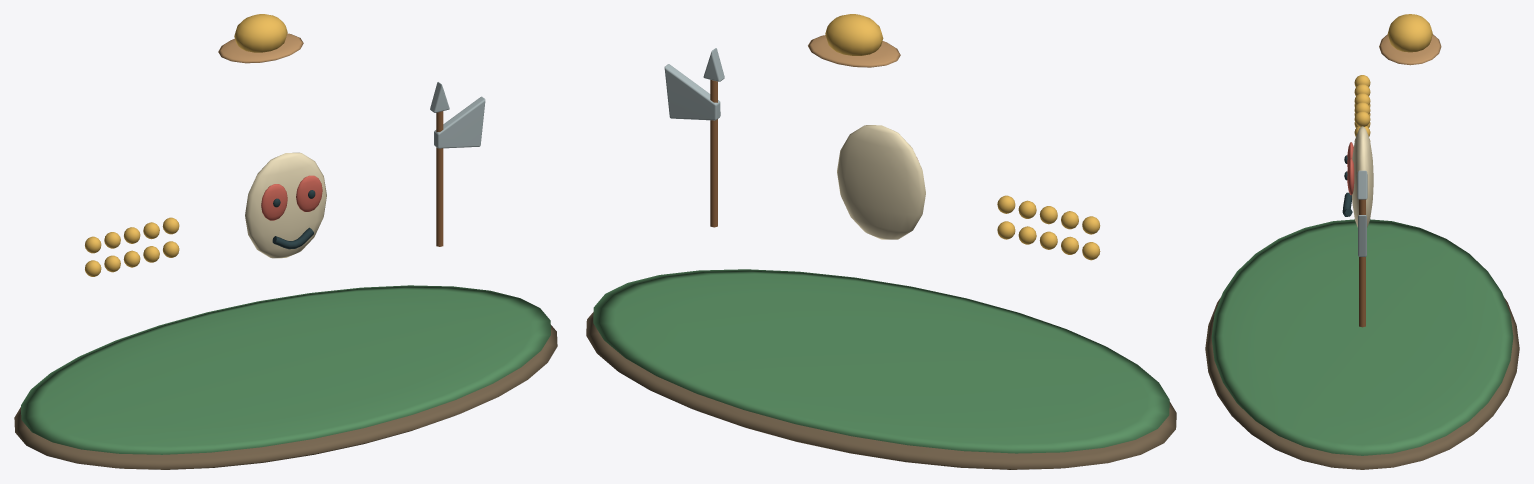
Rendered from complete-third-ten-unusual-halberd.glb.
The picture shows the model from 3 angles, left to right: view 1: azimuth 30°, elevation 25°; view 2: azimuth 150°, elevation 25°; view 3: azimuth 270°, elevation 25°; orthographic projection. The views are drawn at different scales.
Parts seen in each view (by area): view 1: complete-third-ten-unusual-halberd_surface_01, complete-third-ten-unusual-halberd_surface_00, complete-third-ten-unusual-halberd_surface_03, complete-third-ten-unusual-halberd_surface_02, complete-third-ten-unusual-halberd_surface_07, complete-third-ten-unusual-halberd_surface_04, complete-third-ten-unusual-halberd_surface_08, complete-third-ten-unusual-halberd_surface_06; view 2: complete-third-ten-unusual-halberd_surface_01, complete-third-ten-unusual-halberd_surface_00, complete-third-ten-unusual-halberd_surface_03, complete-third-ten-unusual-halberd_surface_02, complete-third-ten-unusual-halberd_surface_07, complete-third-ten-unusual-halberd_surface_08, complete-third-ten-unusual-halberd_surface_06; view 3: complete-third-ten-unusual-halberd_surface_01, complete-third-ten-unusual-halberd_surface_00, complete-third-ten-unusual-halberd_surface_02, complete-third-ten-unusual-halberd_surface_03, complete-third-ten-unusual-halberd_surface_08, complete-third-ten-unusual-halberd_surface_07, complete-third-ten-unusual-halberd_surface_06, complete-third-ten-unusual-halberd_surface_04.
Part boxes in pixels (bbox=[...]): complete-third-ten-unusual-halberd_surface_01: bbox=[21, 285, 550, 454]; complete-third-ten-unusual-halberd_surface_00: bbox=[14, 324, 557, 469]; complete-third-ten-unusual-halberd_surface_03: bbox=[245, 152, 326, 258]; complete-third-ten-unusual-halberd_surface_02: bbox=[85, 14, 287, 276]; complete-third-ten-unusual-halberd_surface_07: bbox=[430, 82, 485, 148]; complete-third-ten-unusual-halberd_surface_04: bbox=[261, 175, 322, 220]; complete-third-ten-unusual-halberd_surface_08: bbox=[218, 33, 303, 63]; complete-third-ten-unusual-halberd_surface_06: bbox=[436, 111, 443, 246]; complete-third-ten-unusual-halberd_surface_01: bbox=[593, 269, 1169, 453]; complete-third-ten-unusual-halberd_surface_00: bbox=[586, 312, 1176, 469]; complete-third-ten-unusual-halberd_surface_03: bbox=[837, 125, 925, 239]; complete-third-ten-unusual-halberd_surface_02: bbox=[825, 14, 1100, 260]; complete-third-ten-unusual-halberd_surface_07: bbox=[664, 48, 724, 120]; complete-third-ten-unusual-halberd_surface_08: bbox=[808, 35, 900, 67]; complete-third-ten-unusual-halberd_surface_06: bbox=[710, 80, 717, 227]; complete-third-ten-unusual-halberd_surface_01: bbox=[1211, 219, 1513, 455]; complete-third-ten-unusual-halberd_surface_00: bbox=[1205, 297, 1519, 469]; complete-third-ten-unusual-halberd_surface_02: bbox=[1354, 14, 1432, 140]; complete-third-ten-unusual-halberd_surface_03: bbox=[1352, 126, 1373, 227]; complete-third-ten-unusual-halberd_surface_08: bbox=[1379, 34, 1441, 65]; complete-third-ten-unusual-halberd_surface_07: bbox=[1357, 170, 1367, 256]; complete-third-ten-unusual-halberd_surface_06: bbox=[1359, 199, 1365, 327]; complete-third-ten-unusual-halberd_surface_04: bbox=[1347, 142, 1354, 195].
Bounding box in the file's own units: 4.56 × 3.04 × 2.5.
